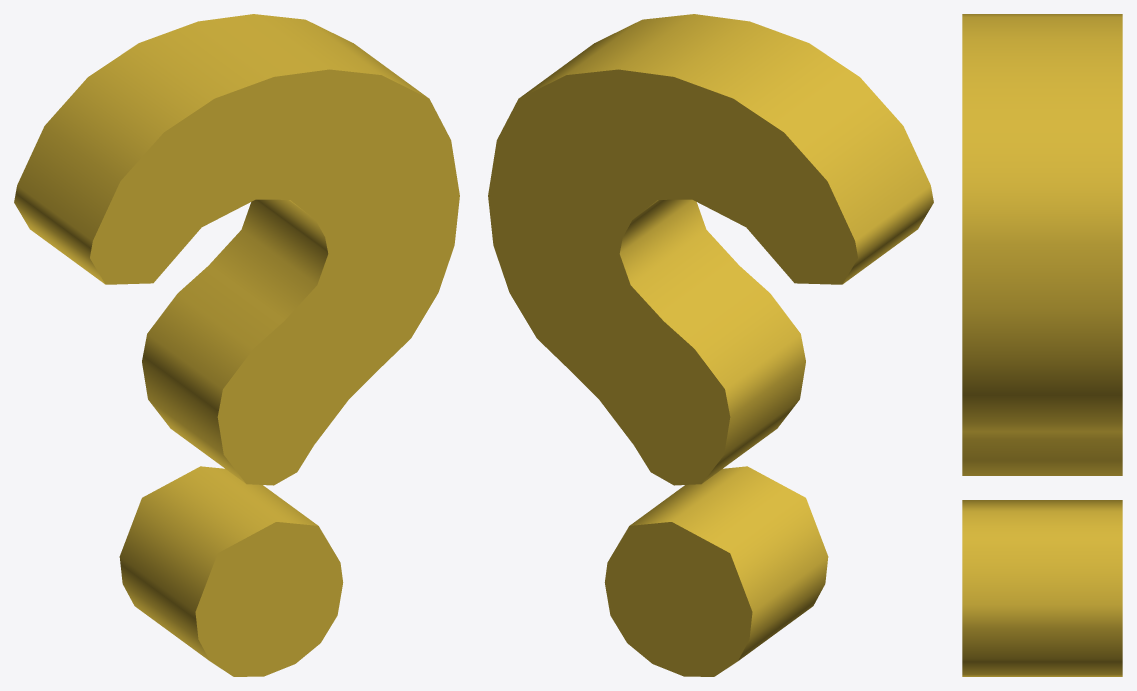
Rendered from question mark.fbx.
3 renders of one model, left to right at view 1: azimuth 30°, elevation 25°; view 2: azimuth 150°, elevation 25°; view 3: azimuth 270°, elevation 25°, orthographic. The views are drawn at different scales.
Visible parts, largest first — view 1: question_mark; view 2: question_mark; view 3: question_mark.
Part boxes in pixels (x1,y1,x2,y2): question_mark: (14, 14, 459, 676); question_mark: (488, 14, 933, 676); question_mark: (962, 14, 1122, 676).
Bounding box in the file's own units: 7.05 × 10.87 × 2.5.
